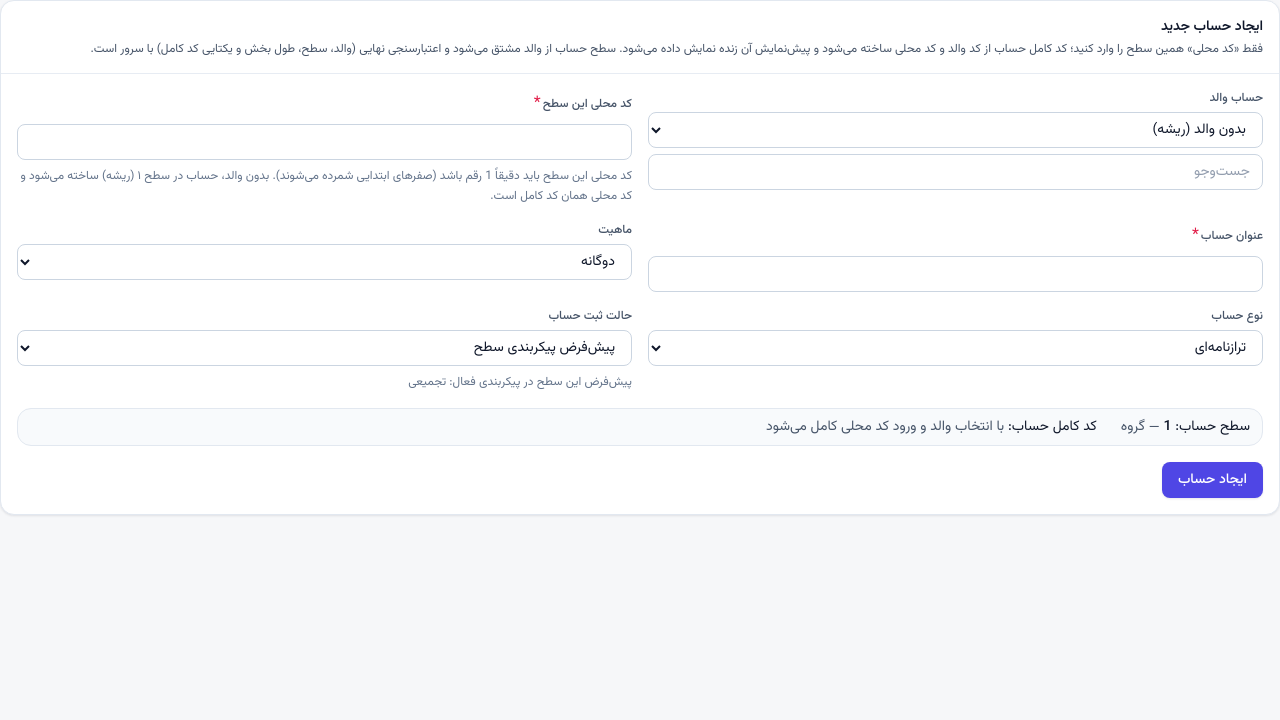
it: AccountCreateForm backend errors › 409 duplicate code shows an alert and no success
Step 1. Type "1" into the field labelled "کد محلی این سطح" → (324, 142), box [17,124,632,160]
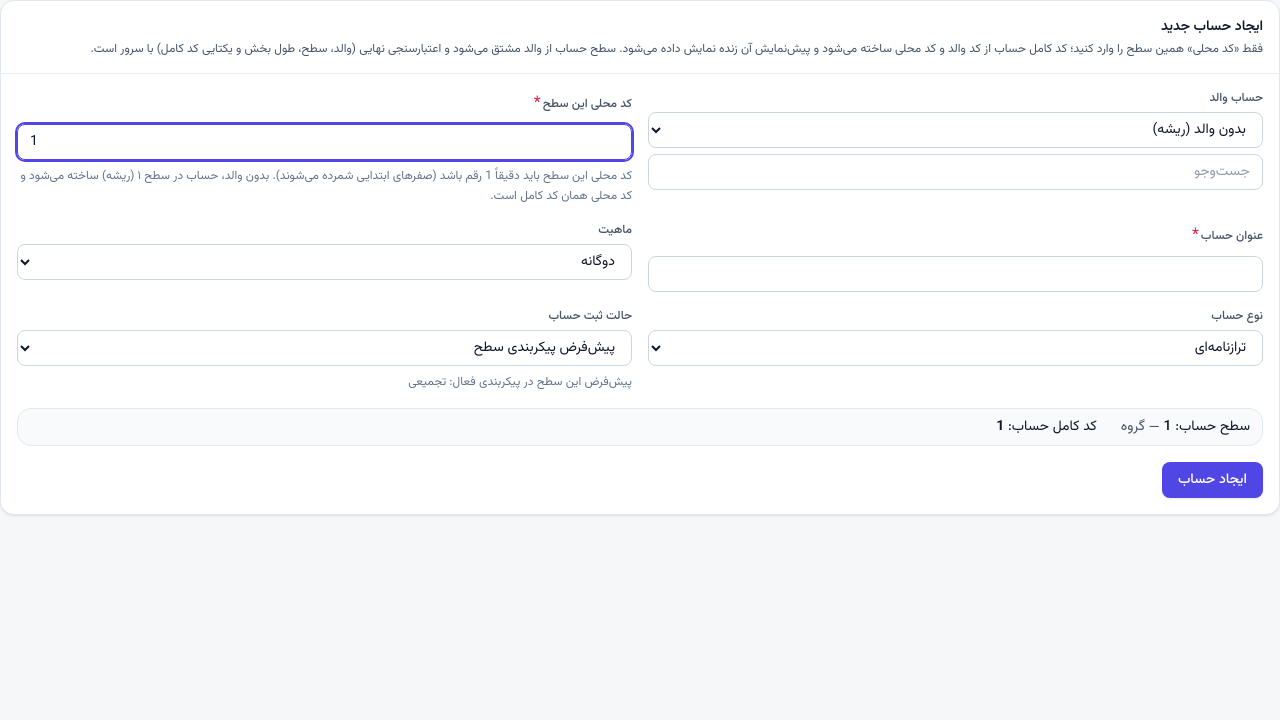
Step 2. Type "نقد" into the field labelled "عنوان حساب" → (956, 274), box [648,256,1263,292]
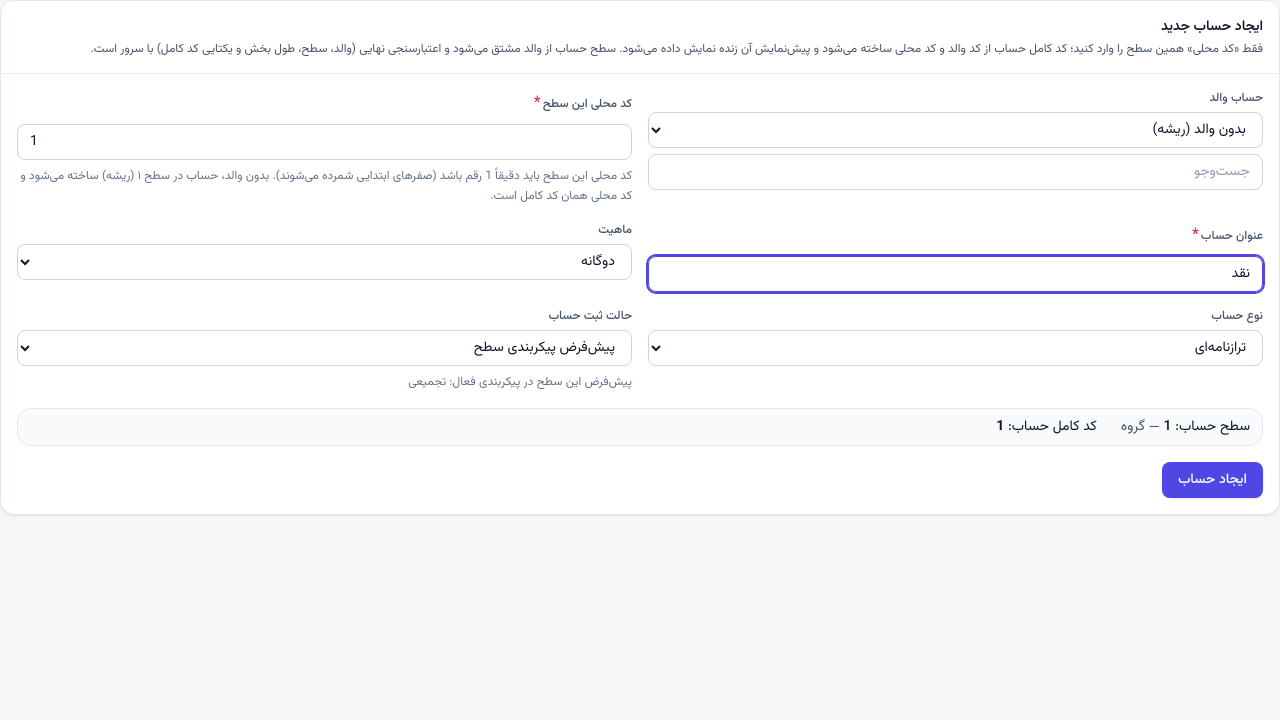
Step 3. Click the button "ایجاد حساب" → (1212, 480), box [1162,462,1263,498]
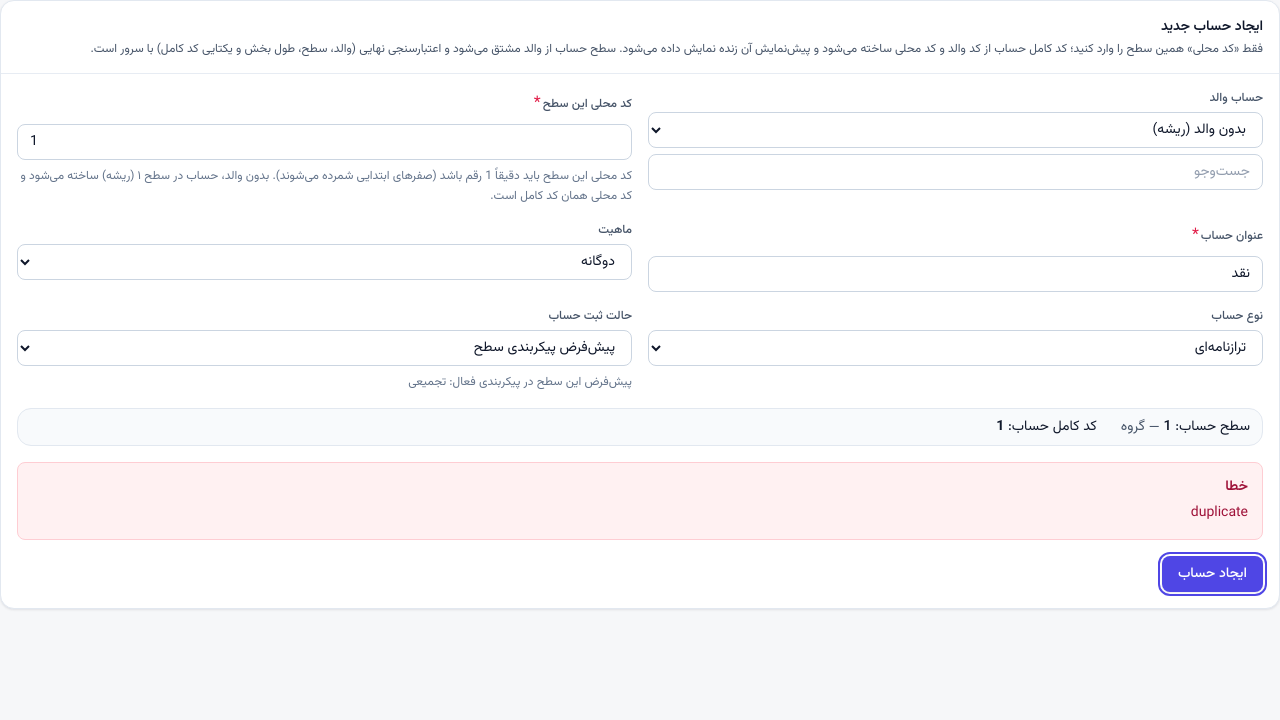
Now the message "خطا duplicate" is shown, box [17,462,1263,540]
